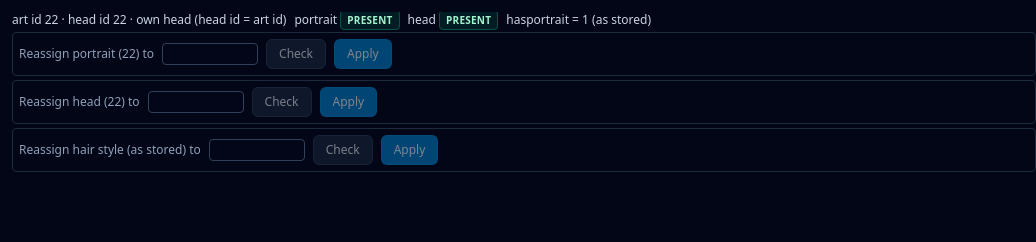
Test: PlayerContainmentCard › offers PS4 hair with the stored value, the vault evidence and the exact checked source (receipt 66)
Expected: the element with test id "reassign-hair" is shown, [12, 128, 1035, 172]
Type "5" into the field with test id "reassign-hair-target".
click(257, 150); type("5")  # box [209, 139, 305, 161]
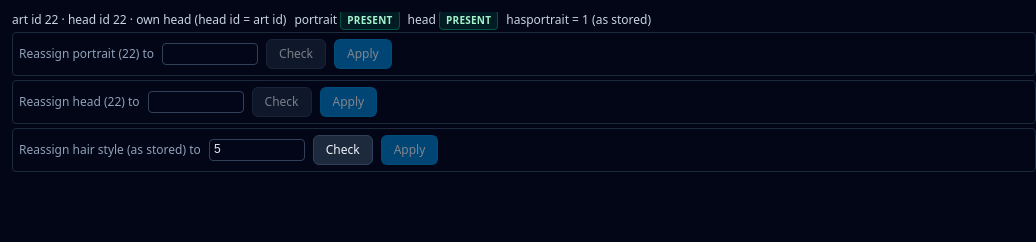
Click the button with test id "reassign-hair-check".
click(343, 150)  # box [313, 135, 373, 165]
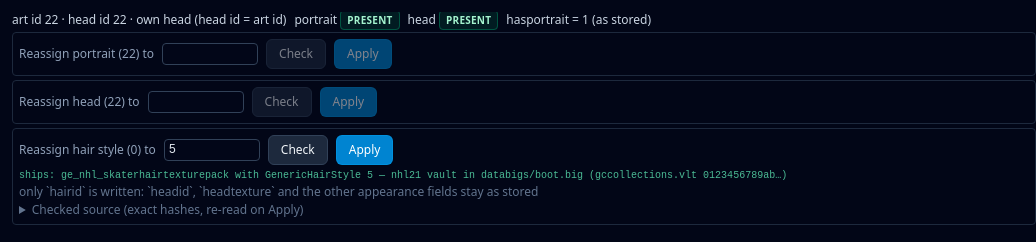
Expected: the text "ships: ge_nhl_skaterhairtexturepack with GenericHairStyle 5" is shown, [19, 170, 787, 181]
Expected: the element with test id "reassign-hair" shows "Reassign hair style (0) to", [12, 128, 1035, 225]
Click the button with test id "reassign-hair-apply".
click(365, 150)  # box [336, 135, 393, 165]
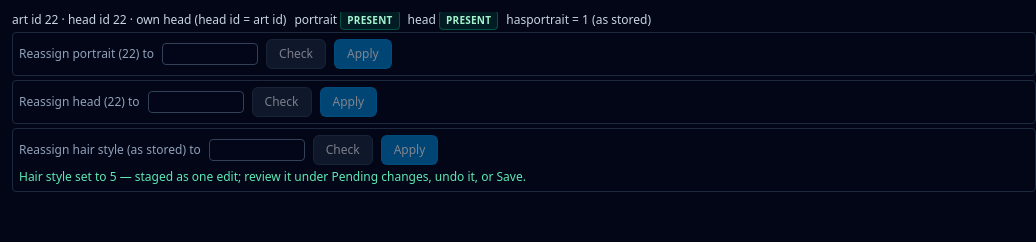
Expected: the text with test id "reassign-hair-done" shows "Hair style set to 5", [19, 168, 526, 185]
